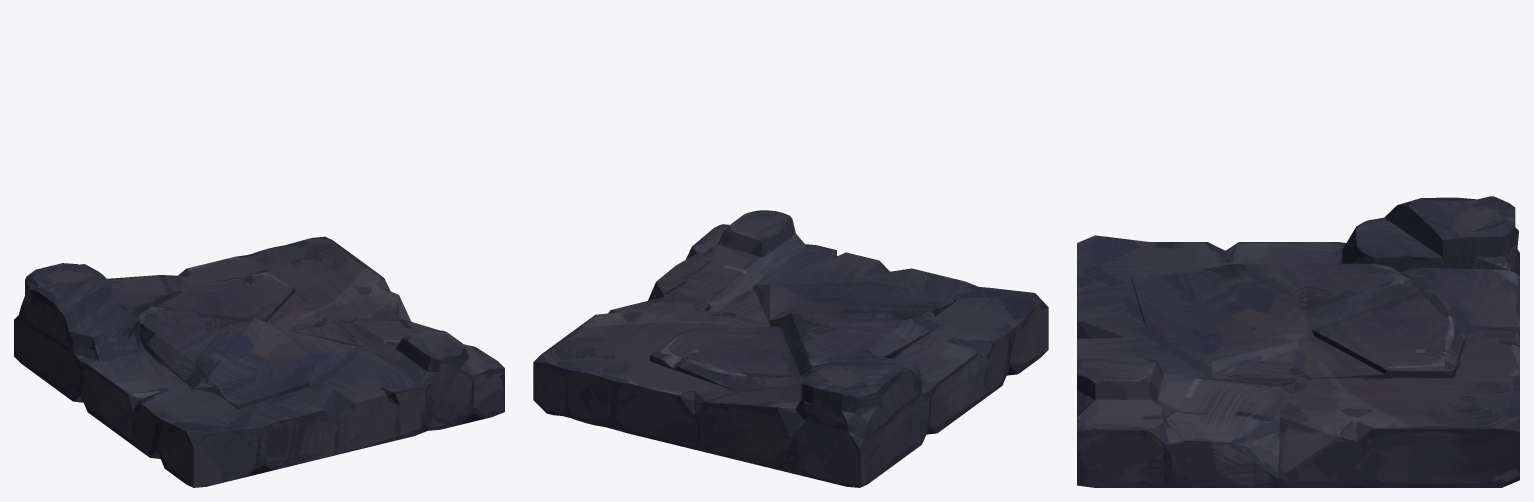
File: Ruins17.fbx
3 renders of one model, left to right at view 1: azimuth 30°, elevation 25°; view 2: azimuth 150°, elevation 25°; view 3: azimuth 270°, elevation 25°, orthographic. The views are drawn at different scales.
Visible parts, largest first — view 1: Ruins17; view 2: Ruins17; view 3: Ruins17.
Part boxes in pixels (x1=…): Ruins17: x1=14, y1=236, x2=504, y2=487; Ruins17: x1=533, y1=210, x2=1048, y2=487; Ruins17: x1=1077, y1=196, x2=1519, y2=487.
Bounding box in the file's own units: 3.95 × 3.86 × 3.93.
2 materials, 2 textured.
